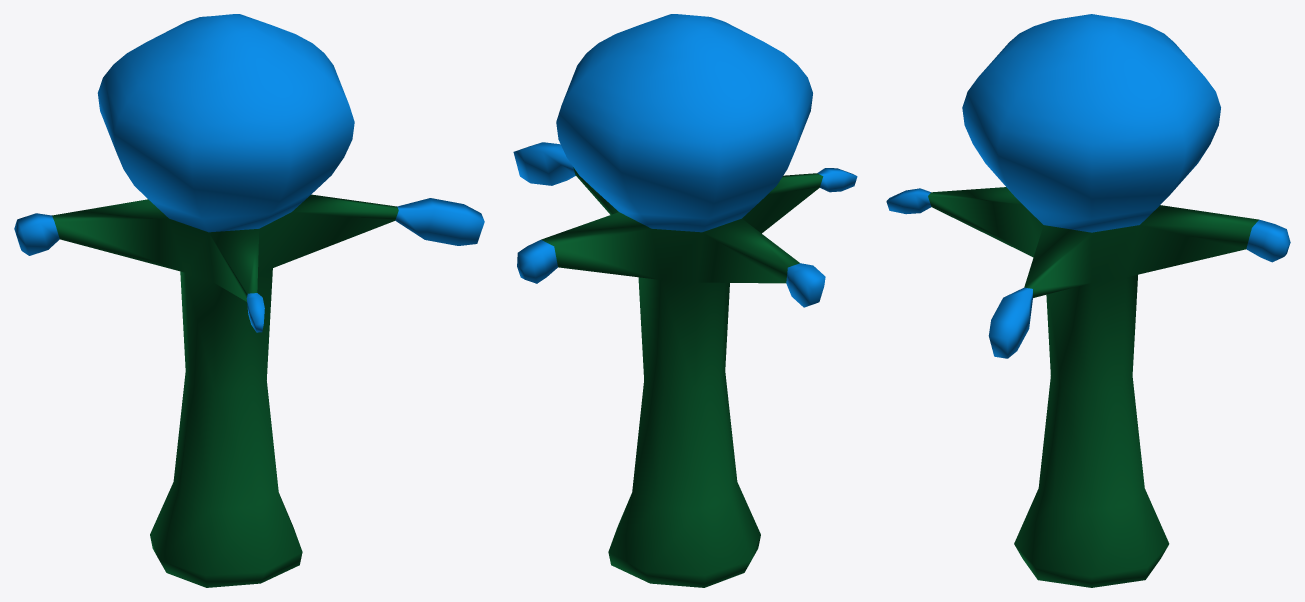
File: SD_Tree1.fbx
3 renders of one model, left to right at view 1: azimuth 30°, elevation 25°; view 2: azimuth 150°, elevation 25°; view 3: azimuth 270°, elevation 25°, orthographic.
Visible parts, largest first — view 1: Cube; view 2: Cube; view 3: Cube.
Boxes of the visible parts, x1,y1,x2,y2 form: Cube: (14, 14, 484, 587); Cube: (513, 14, 857, 587); Cube: (886, 14, 1290, 587).
Size of the model in its own units: 1086 by 1446 by 980.
